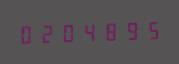eight: (97, 19, 116, 43)
five: (137, 18, 156, 41)
four: (77, 20, 96, 43)
nine: (117, 19, 136, 42)
two: (37, 21, 56, 45)
zero: (17, 22, 36, 45), (57, 21, 76, 44)
